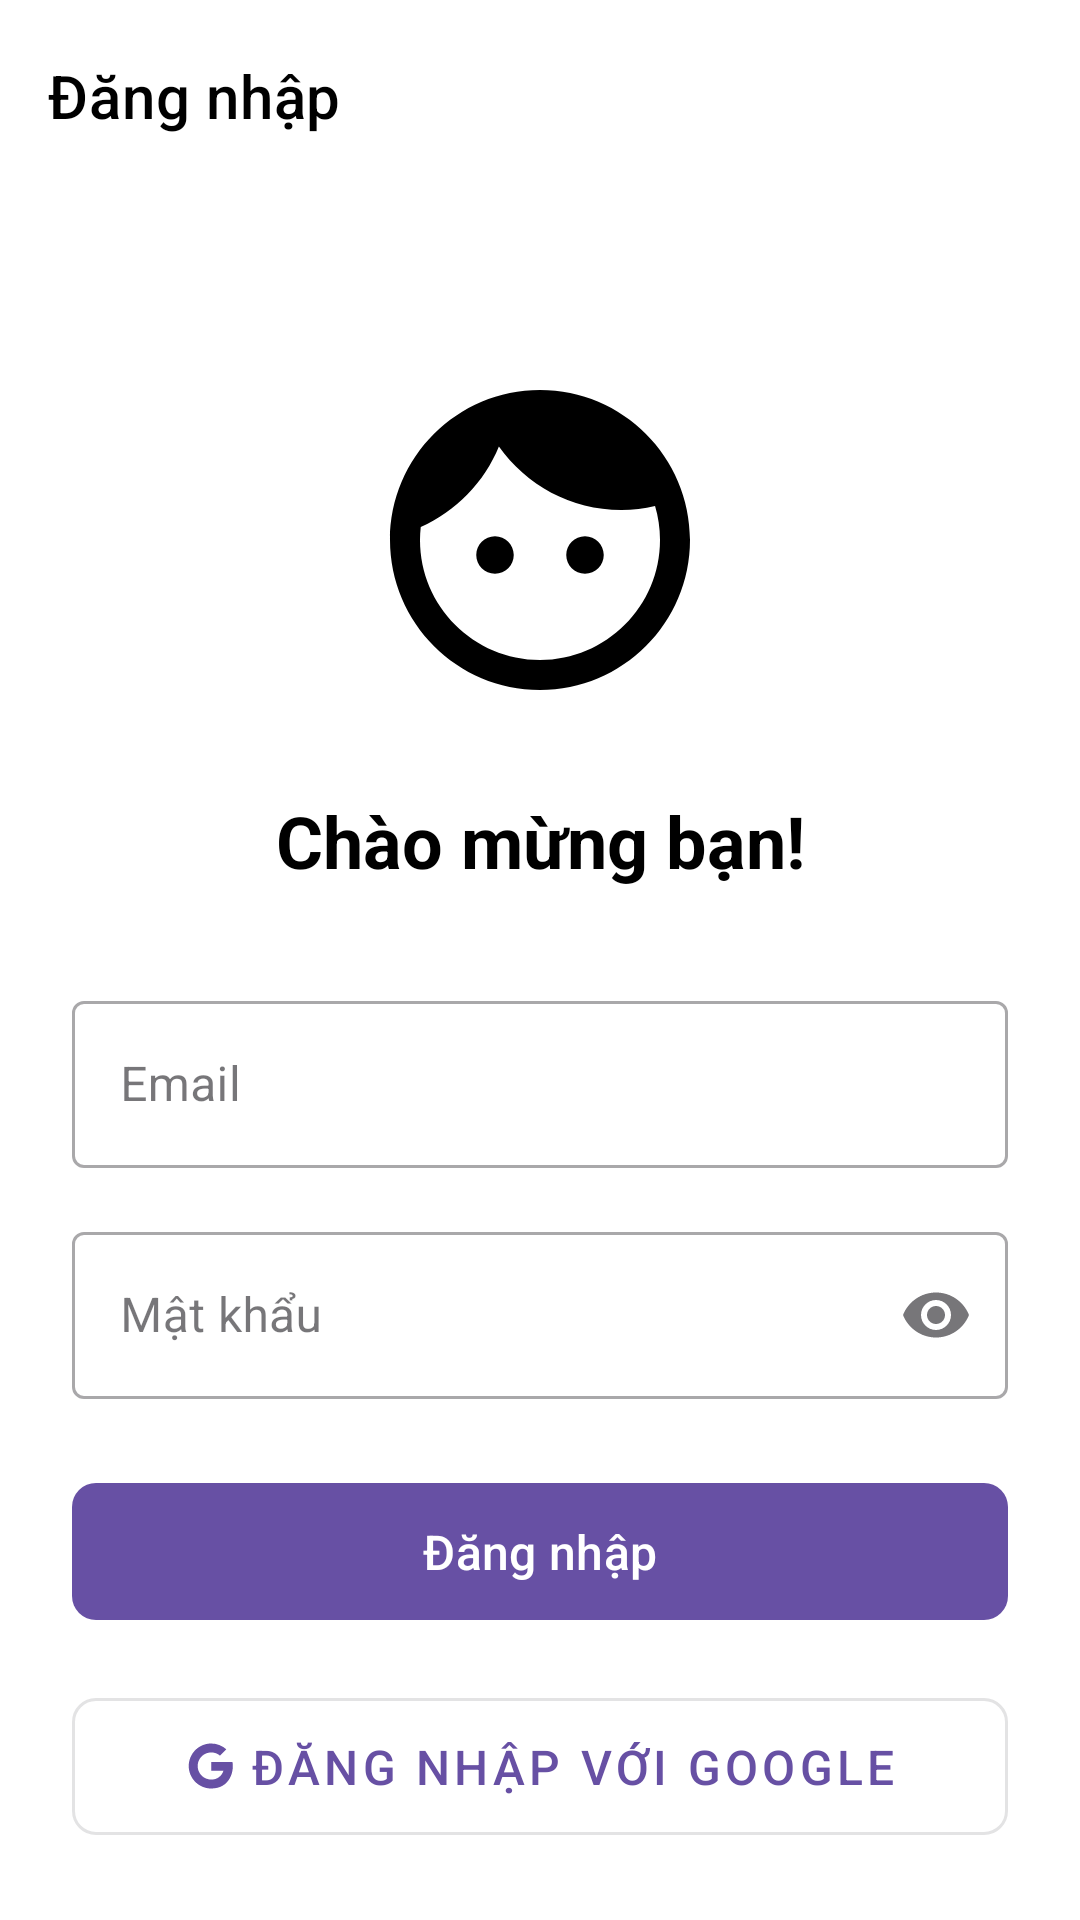

Icon bounding boxes for this 1080px x 1920px phone screenshot, format (x1, y1, x2, y2):
face: (390, 390, 690, 690)
